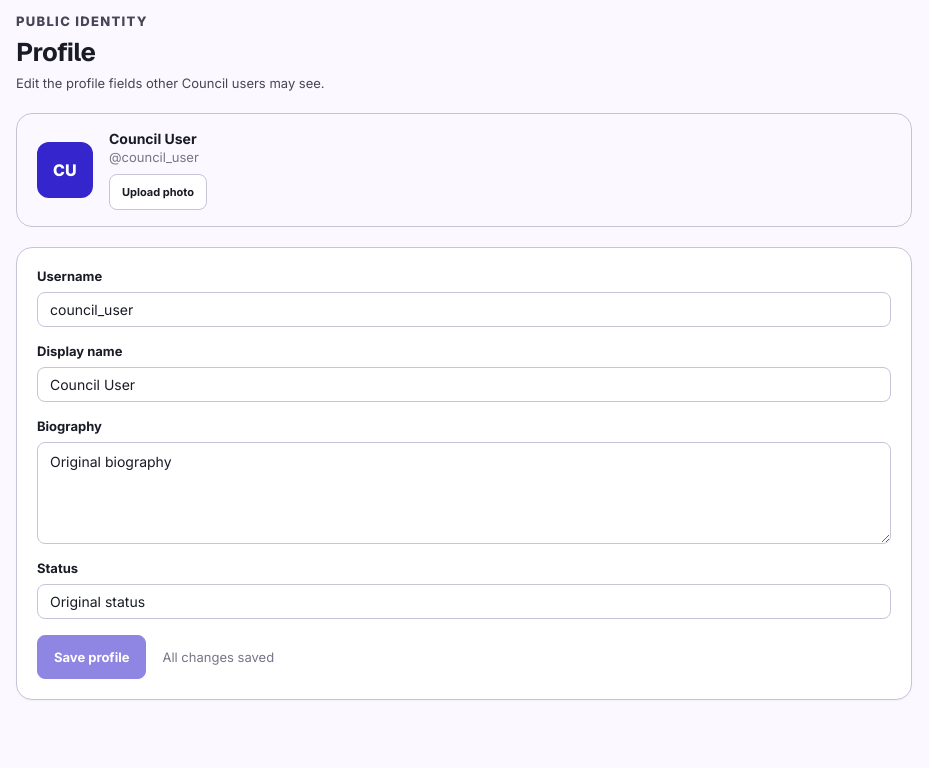
onboarding and account settings pages › updates profile fields and reports success
Replace the text in the field labelled "Display name" with "Updated User" at (464, 385), box [37,368,891,402]
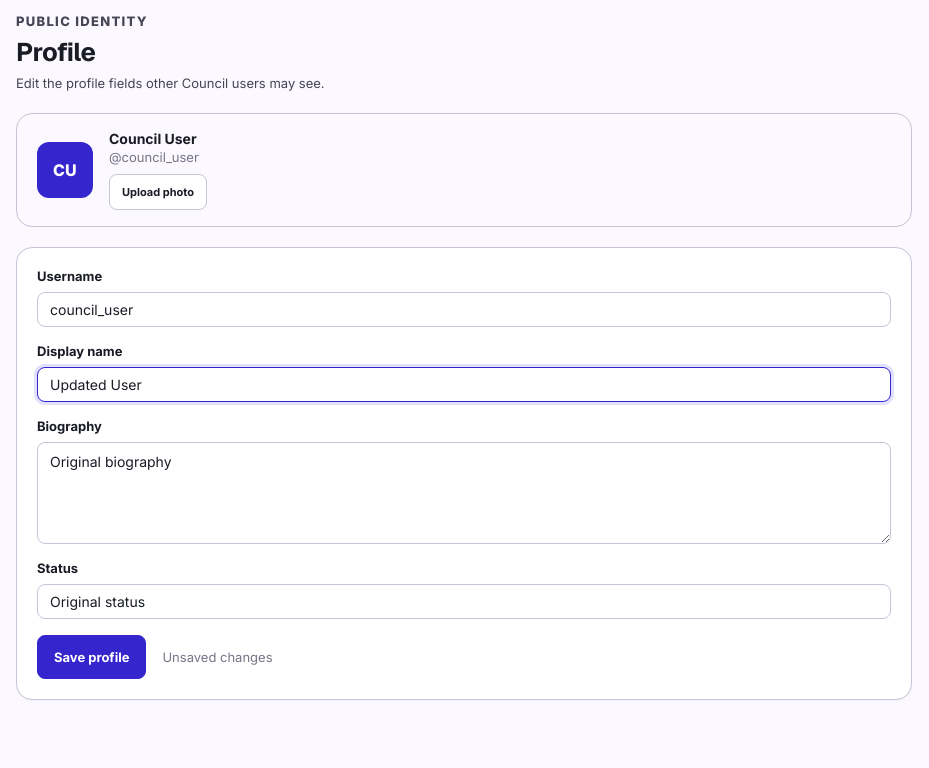
Replace the text in the field labelled "Status" with "Updated status" at (464, 602), box [37,584,891,620]
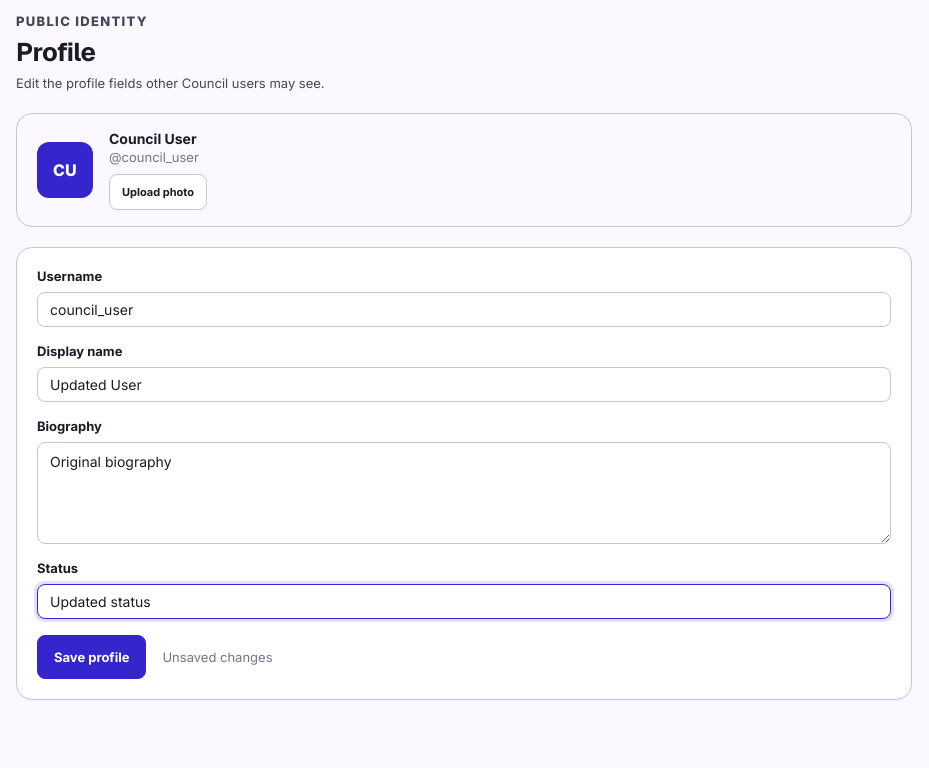
Click the button "Save profile" at (92, 658), box [37,636,146,680]
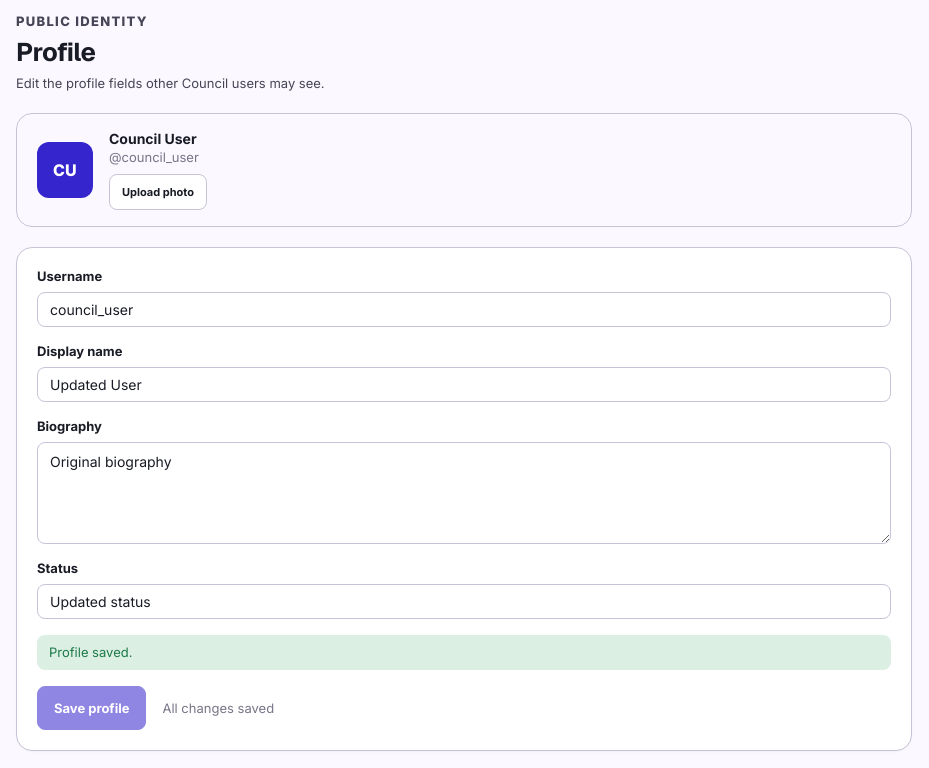
Expected: the text "Profile saved." is shown, [37,636,891,670]
